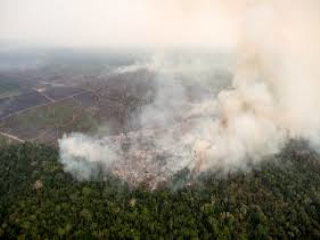smoke: (145, 69, 314, 183), (231, 5, 317, 153), (53, 120, 126, 189)
